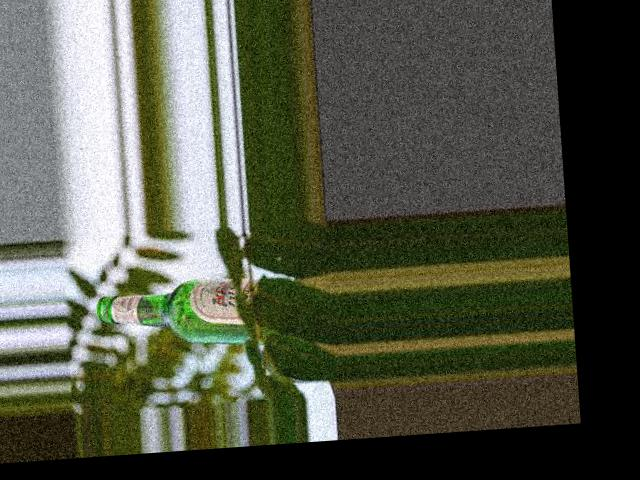beer: (95, 275, 266, 350)
